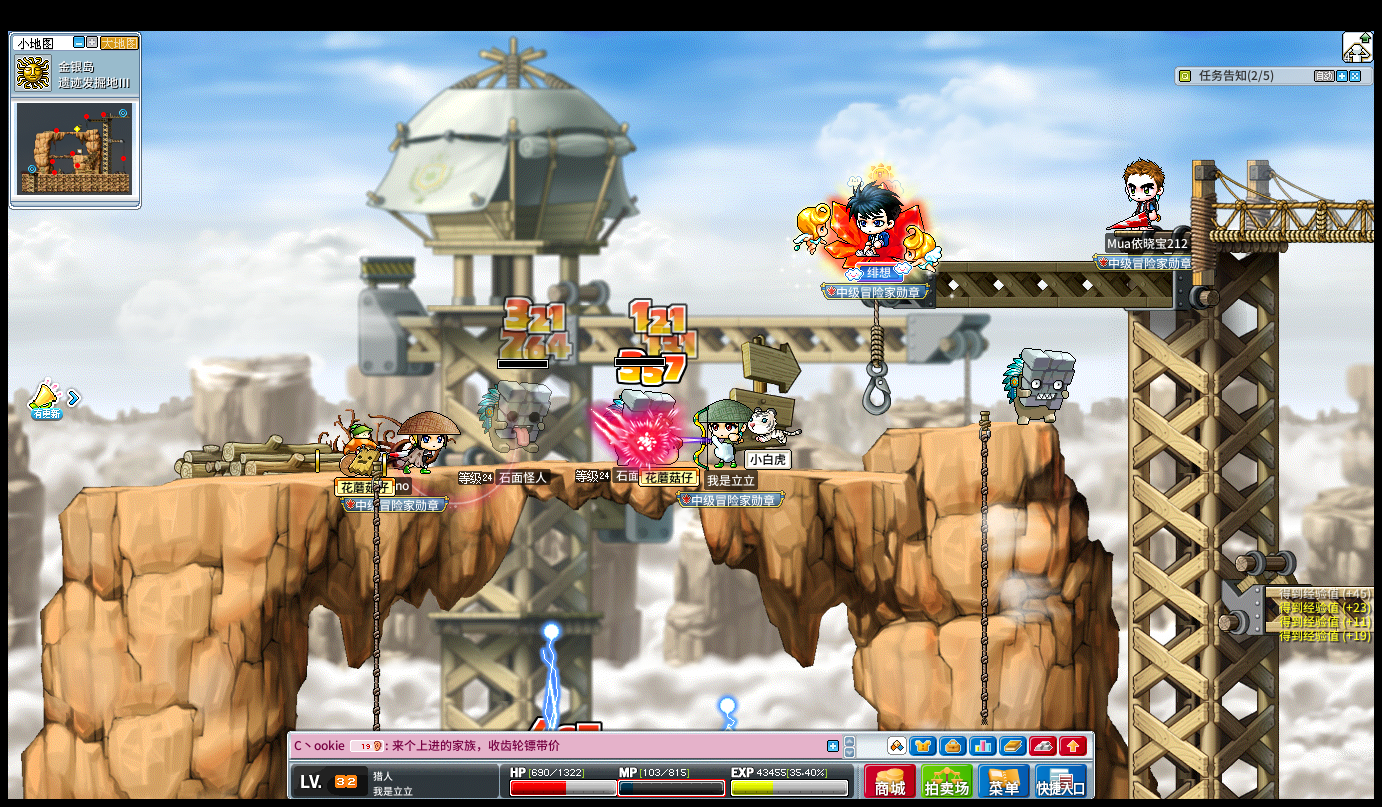floor: (69, 455, 934, 476), (319, 458, 835, 471), (885, 419, 1051, 435), (1265, 583, 1376, 596)
monster: (475, 378, 553, 462), (1001, 347, 1076, 425), (604, 384, 675, 462)
rope: (975, 406, 991, 716), (367, 458, 381, 807), (369, 461, 381, 760), (976, 613, 989, 713)
